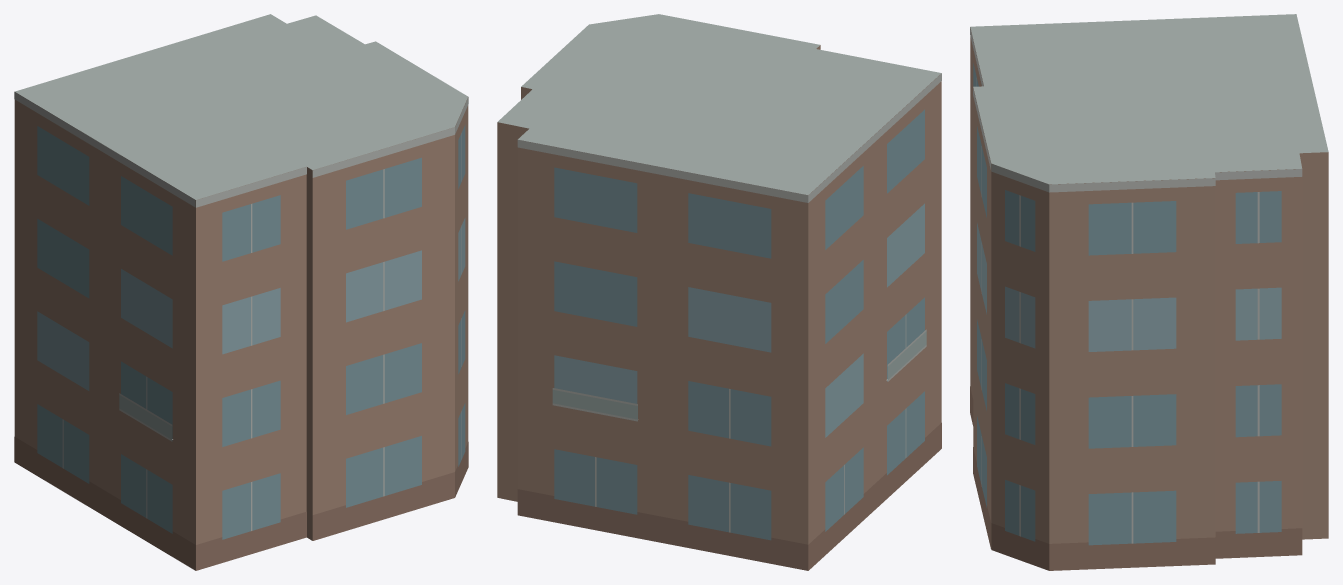
The model's file is survey-upis-32960289.glb.
The picture shows the model from 3 angles, left to right: view 1: azimuth 30°, elevation 25°; view 2: azimuth 150°, elevation 25°; view 3: azimuth 270°, elevation 25°; orthographic projection. The views are drawn at different scales.
Visible parts, largest first — view 1: survey-upis-32960289.tmp; view 2: survey-upis-32960289.tmp; view 3: survey-upis-32960289.tmp.
Part boxes in pixels (x1,y1,x2,y2): survey-upis-32960289.tmp: [14, 14, 468, 570]; survey-upis-32960289.tmp: [497, 14, 941, 570]; survey-upis-32960289.tmp: [970, 14, 1328, 570].
Bounding box in the file's own units: 11.08 × 11.7 × 9.85.
